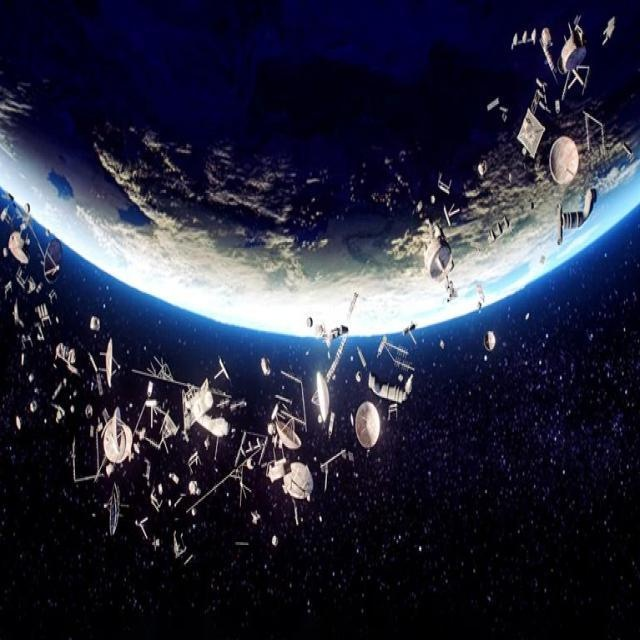large_debris: (303, 287, 361, 391), (179, 372, 232, 443), (269, 366, 309, 454), (421, 214, 459, 305), (557, 12, 591, 102), (554, 185, 600, 249), (101, 402, 137, 474), (546, 130, 582, 191), (367, 363, 415, 407), (352, 394, 384, 458), (280, 455, 314, 511), (374, 330, 416, 375), (318, 443, 360, 487), (514, 106, 548, 160), (102, 481, 130, 545), (144, 407, 179, 457), (536, 20, 560, 84), (99, 335, 123, 395), (41, 231, 65, 290), (310, 363, 332, 427), (52, 338, 80, 380), (7, 224, 31, 270), (485, 215, 514, 249), (397, 319, 422, 353), (15, 266, 43, 296), (509, 23, 537, 51), (600, 12, 618, 47), (34, 299, 54, 330), (482, 323, 498, 357), (259, 351, 274, 386), (151, 477, 163, 519), (12, 296, 26, 332), (437, 167, 453, 198), (474, 154, 489, 180), (187, 475, 201, 499), (27, 395, 38, 417), (13, 410, 23, 434)
